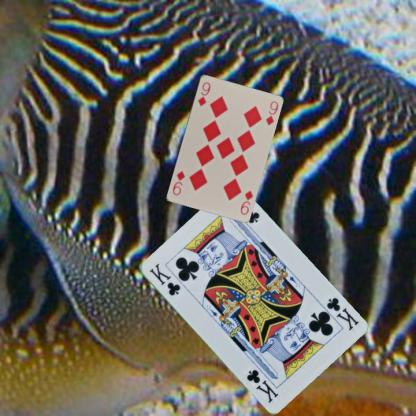9d: (196, 79, 212, 108), (238, 187, 254, 216)
Kc: (323, 295, 360, 332), (146, 260, 182, 298)
